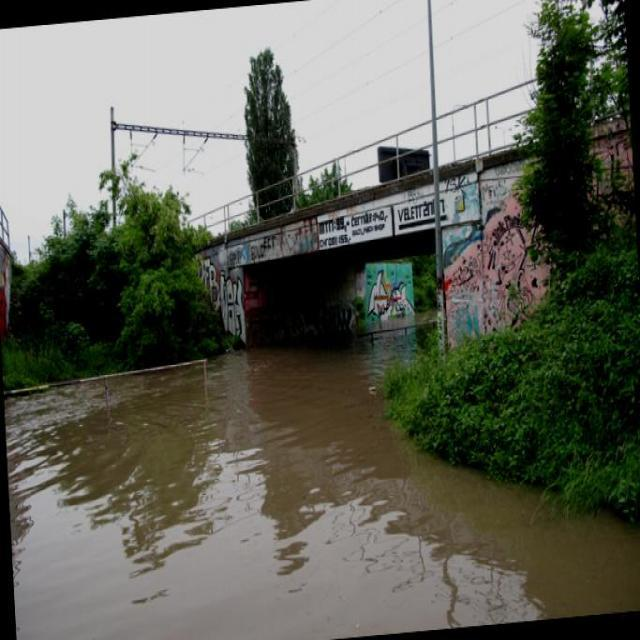flood: (1, 296, 639, 639)
